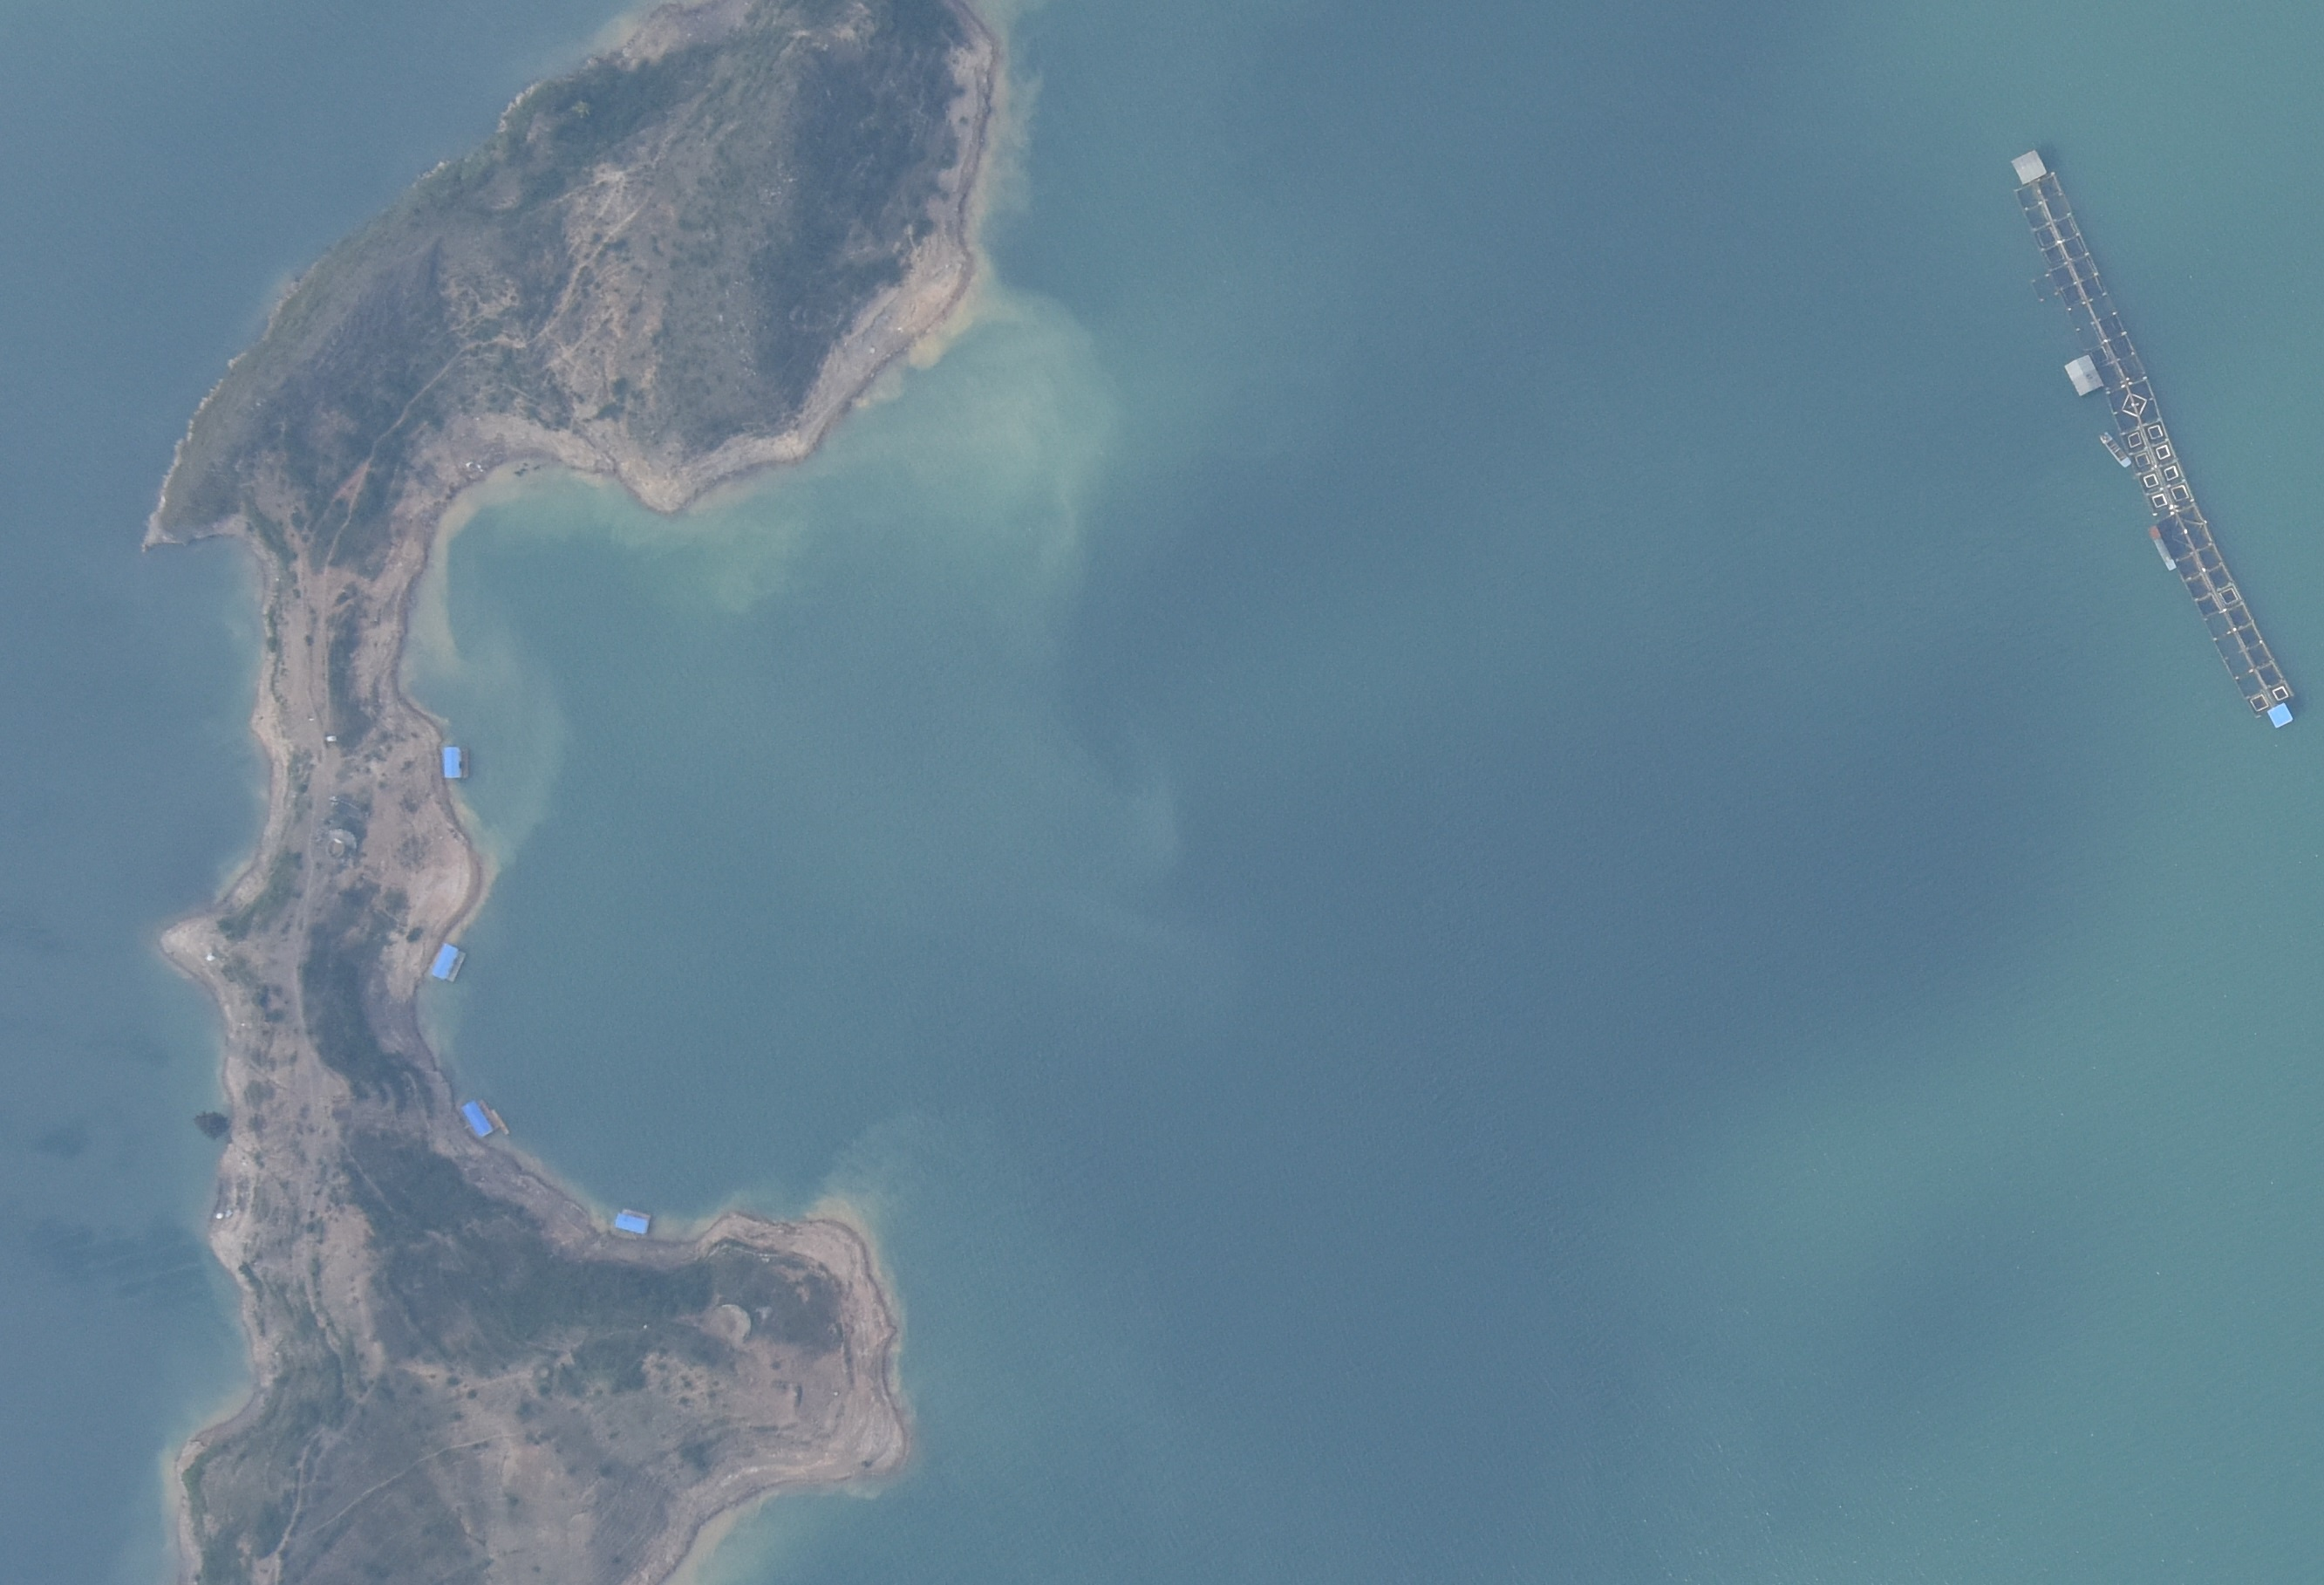cultivation-mesh-cage: (2109, 383, 2298, 712), (2015, 173, 2149, 385)
prefabricated-house: (459, 1097, 509, 1141), (2064, 352, 2105, 396), (427, 940, 464, 984), (2011, 148, 2043, 182), (440, 746, 470, 779), (615, 1210, 650, 1233), (2267, 703, 2294, 726)
ship: (2147, 525, 2177, 574), (2098, 431, 2133, 468)
